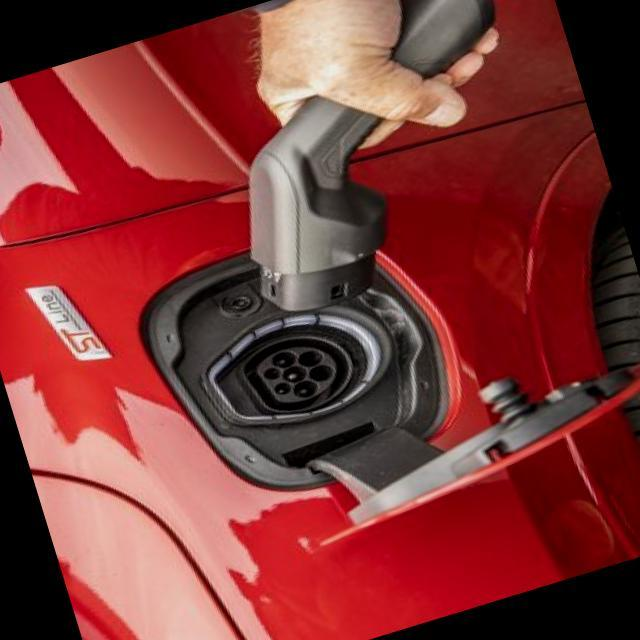Type 2: (208, 306, 379, 446)
